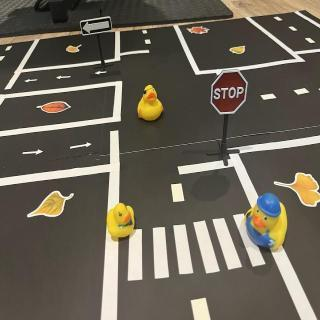duck_regular: (106, 201, 136, 241)
duck_specialty: (243, 189, 291, 253), (137, 85, 167, 125)
road_crosswalk: (126, 213, 269, 284)
road_oneway: (69, 141, 93, 151), (22, 149, 45, 159), (23, 77, 41, 85), (56, 75, 74, 81), (95, 70, 109, 77)
sign_oneway_left: (81, 19, 115, 36)
sign_stop: (212, 71, 248, 116)
